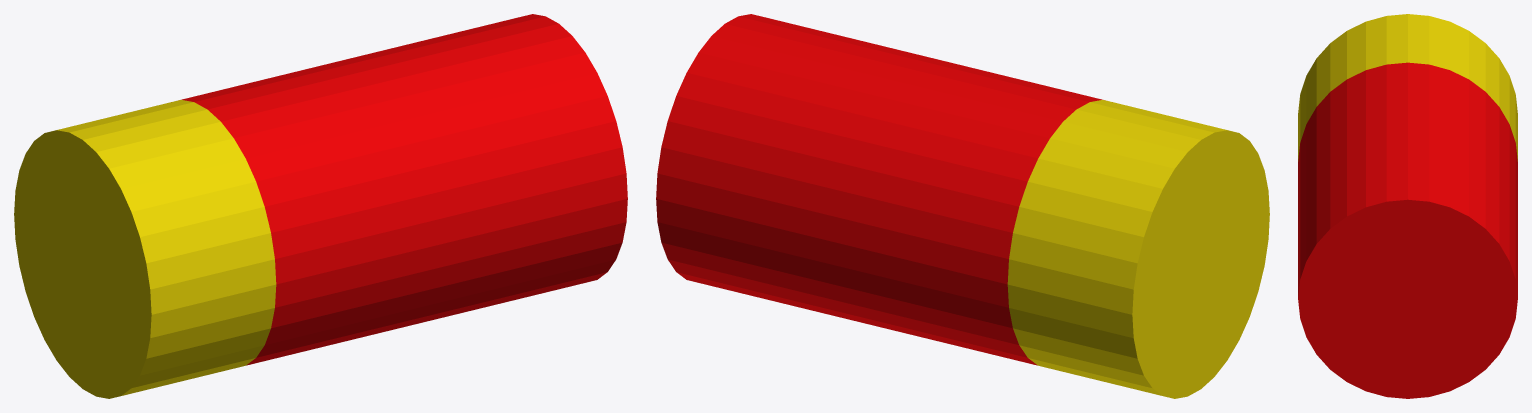
The model's file is Bullet.fbx.
The picture shows the model from 3 angles, left to right: view 1: azimuth 30°, elevation 25°; view 2: azimuth 150°, elevation 25°; view 3: azimuth 270°, elevation 25°; orthographic projection. The views are drawn at different scales.
Visible parts, largest first — view 1: Cylinder; view 2: Cylinder; view 3: Cylinder.
Boxes of the visible parts, x1=… form: Cylinder: x1=14, y1=14, x2=627, y2=398; Cylinder: x1=656, y1=14, x2=1269, y2=398; Cylinder: x1=1298, y1=14, x2=1517, y2=398.
Size of the model in its own units: 10 by 5 by 5.
